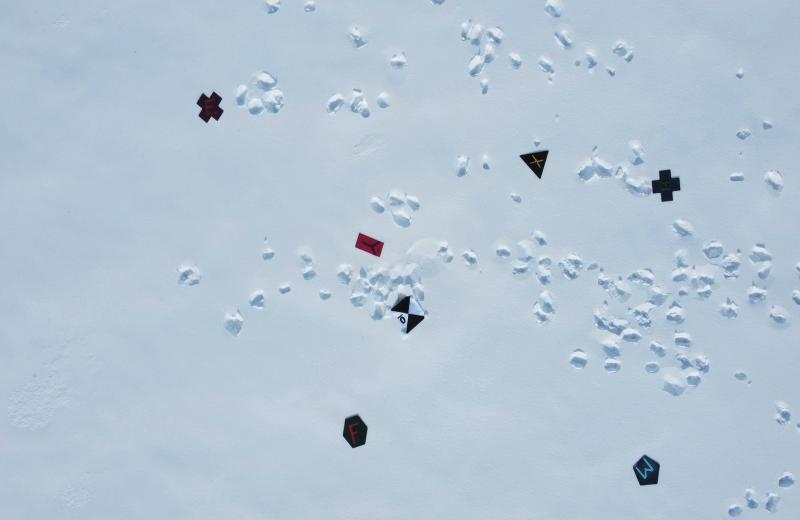Cross: (644, 167, 686, 208), (196, 92, 226, 125)
Hexagon: (339, 412, 374, 452)
Pentagon: (632, 452, 662, 491)
Rectangle: (351, 231, 388, 263)
Triangle: (515, 147, 551, 182)
